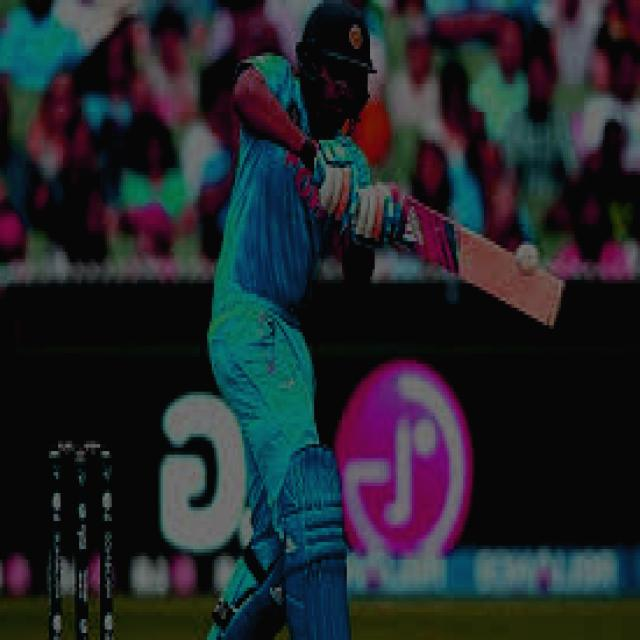toe: (542, 279, 566, 330)
